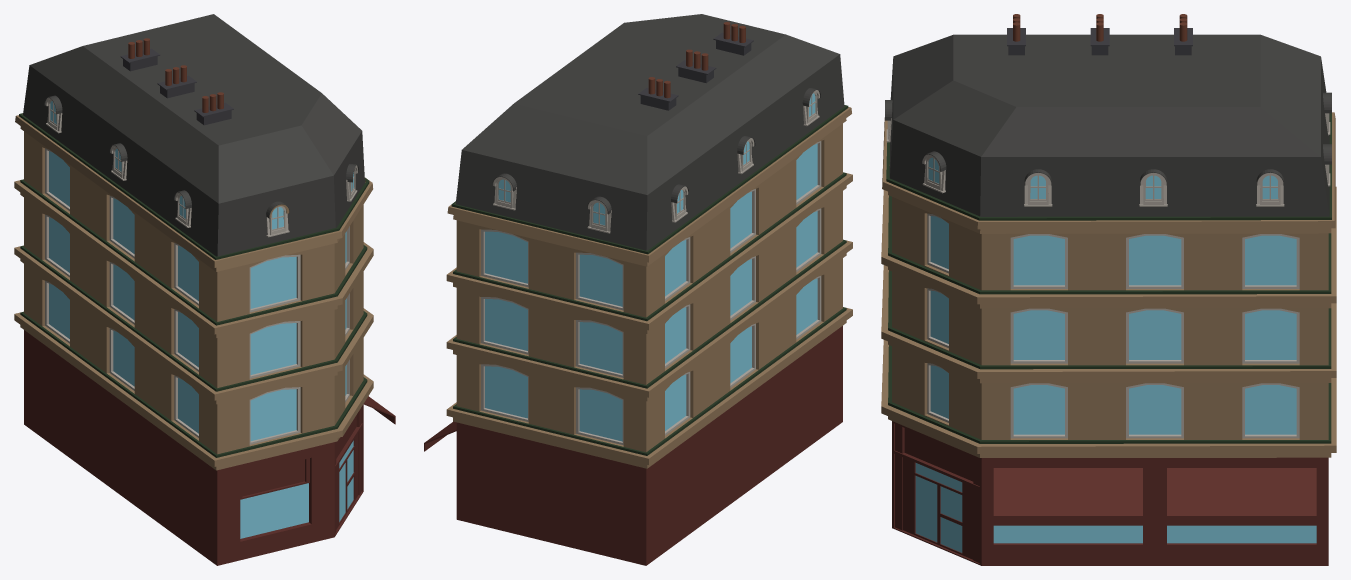
File: SM_elite_building_01_A.gltf
3 views of the same model, side by side, from view 1: azimuth 30°, elevation 25°; view 2: azimuth 150°, elevation 25°; view 3: azimuth 270°, elevation 25° (orthographic). The views are drawn at different scales.
Parts seen in each view (by area): view 1: SM_elite_building_01_A; view 2: SM_elite_building_01_A; view 3: SM_elite_building_01_A.
Boxes of the visible parts, bbox=[...] form: SM_elite_building_01_A: bbox=[14, 14, 395, 565]; SM_elite_building_01_A: bbox=[424, 14, 852, 565]; SM_elite_building_01_A: bbox=[881, 14, 1336, 565].
Bounding box in the file's own units: 3.08 × 5.34 × 4.67.
